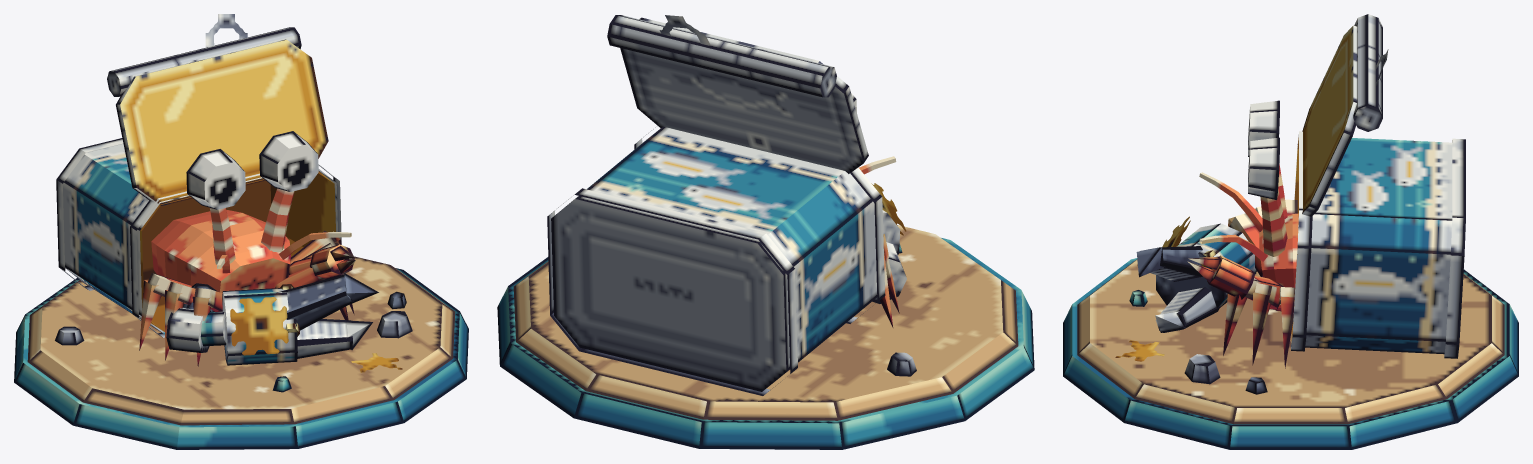
File: tin_hermit.obj
The picture shows the model from 3 angles, left to right: view 1: azimuth 30°, elevation 25°; view 2: azimuth 150°, elevation 25°; view 3: azimuth 270°, elevation 25°; orthographic projection. The views are drawn at different scales.
Parts seen in each view (by area): view 1: sand, lid, base_rim, tin, body, mech_palm, eye, eye_mirror, tin_inner, lid_curl, liner_r, mech_gear (+19 smaller); view 2: tin, sand, base_rim, lid, lid_curl, tin_back_rim, tin_front_rim, mech_elbow, pebble_c; view 3: sand, tin, base_rim, lid, tin_back_rim, lid_curl, mech_palm, tin_front_rim, eye, body, mech_jaw_lo, mech_jaw_up (+11 smaller).
Part boxes in pixels (x1,y1,x2,y2): sand: (27, 256, 455, 425); lid: (116, 39, 328, 205); base_rim: (14, 268, 468, 449); tin: (62, 143, 337, 334); body: (151, 210, 290, 293); mech_palm: (222, 288, 297, 365); eye: (259, 131, 318, 191); eye_mirror: (186, 149, 245, 209); tin_inner: (142, 180, 271, 279); lid_curl: (107, 27, 301, 96); liner_r: (270, 173, 335, 247); mech_gear: (230, 297, 288, 355); tin: (551, 126, 877, 391); sand: (513, 225, 1018, 420); base_rim: (497, 238, 1034, 449); lid: (620, 17, 868, 173); lid_curl: (607, 15, 836, 97); tin_back_rim: (547, 188, 797, 395); tin_front_rim: (634, 127, 885, 323); mech_elbow: (872, 242, 906, 303); pebble_c: (887, 352, 916, 376); sand: (1077, 259, 1504, 424); tin: (1291, 136, 1452, 354); base_rim: (1063, 258, 1518, 449); lid: (1302, 25, 1357, 216); tin_back_rim: (1444, 138, 1465, 358); lid_curl: (1353, 14, 1382, 131); mech_palm: (1156, 223, 1256, 307); tin_front_rim: (1291, 131, 1312, 351); eye: (1248, 137, 1279, 199); body: (1259, 213, 1298, 287); mech_jaw_lo: (1155, 287, 1220, 332); mech_jaw_up: (1137, 246, 1202, 281).
Bounding box in the file's own units: 48.3 × 35.42 × 46.36.
Materials: 1 (1 with a texture image).
